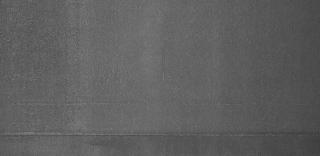welding line: (3, 132, 320, 140)
